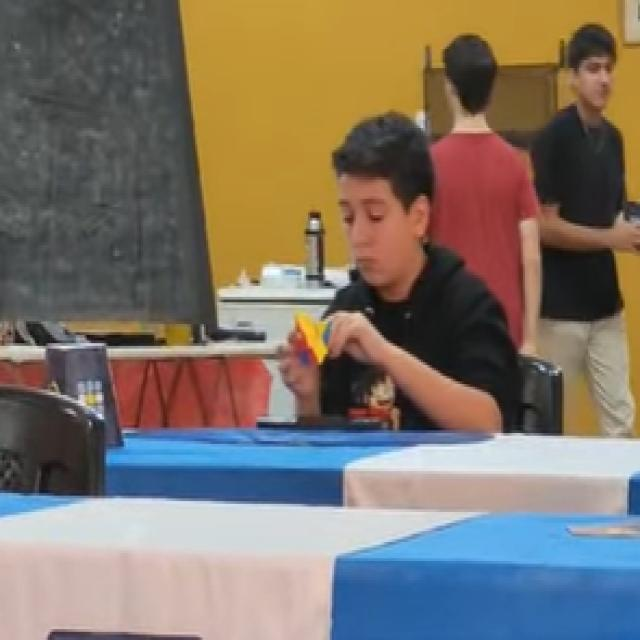Pyraminx: (295, 313, 330, 359)
